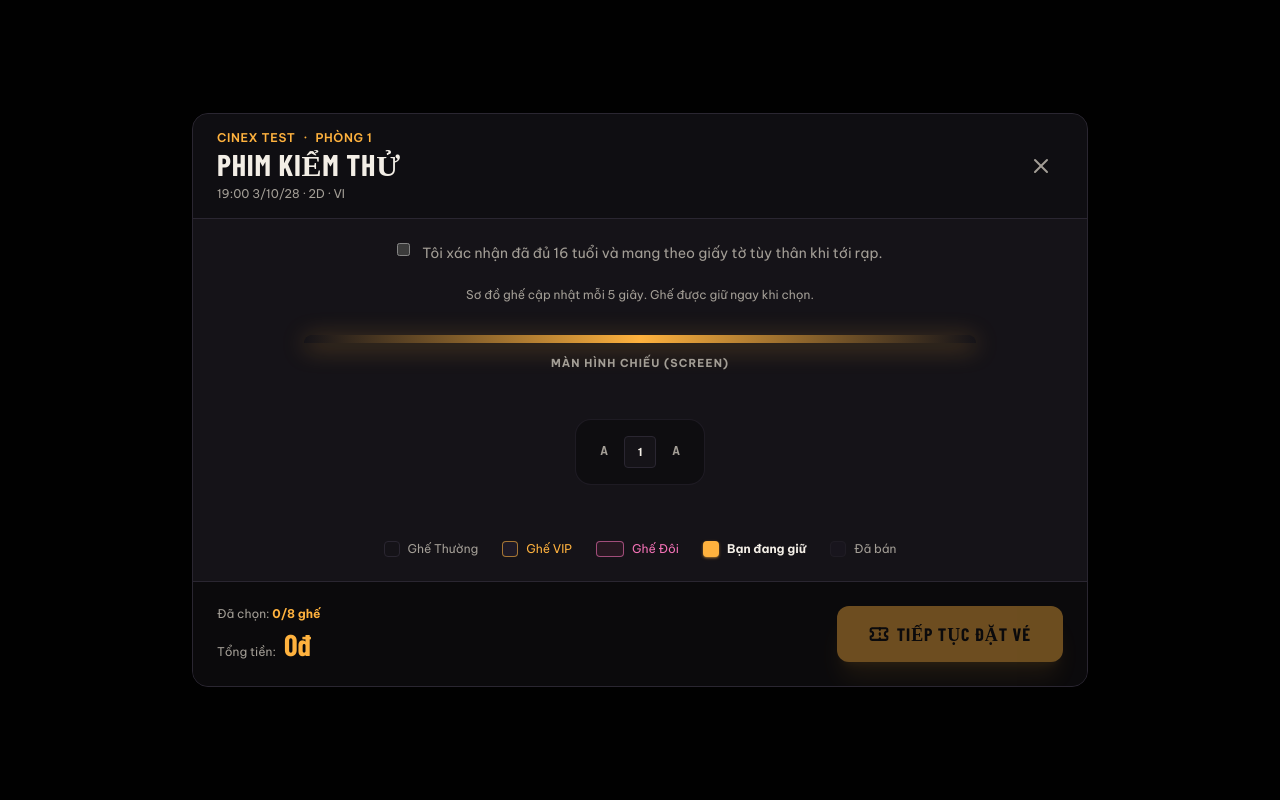
Scenario: Seat selection with persisted holds › requires age confirmation before sending a restricted-film hold
Click the button named "Ghế A1 loại STANDARD".
click(640, 452)  # box [624,436,656,468]
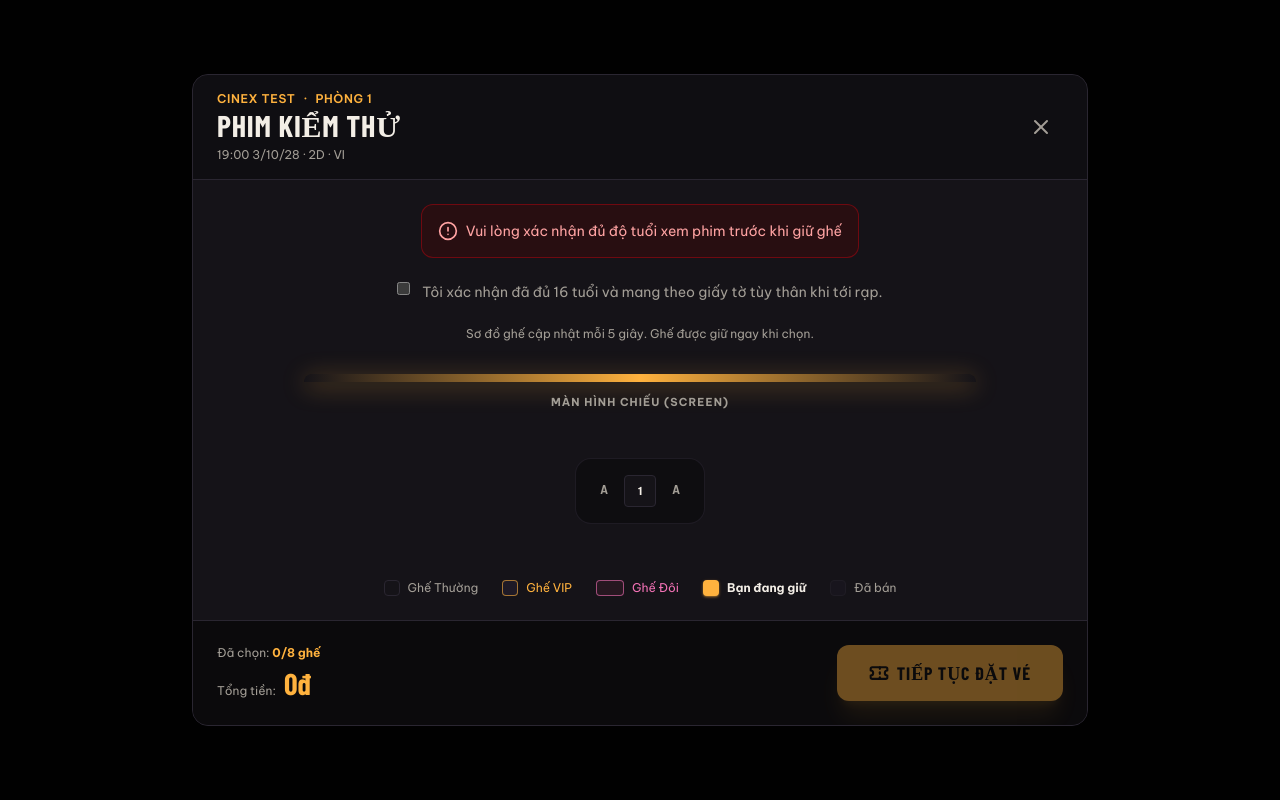
Now the text "Vui lòng xác nhận đủ độ tuổi xem phim trước khi giữ ghế" is shown, box [466,221,842,241]
